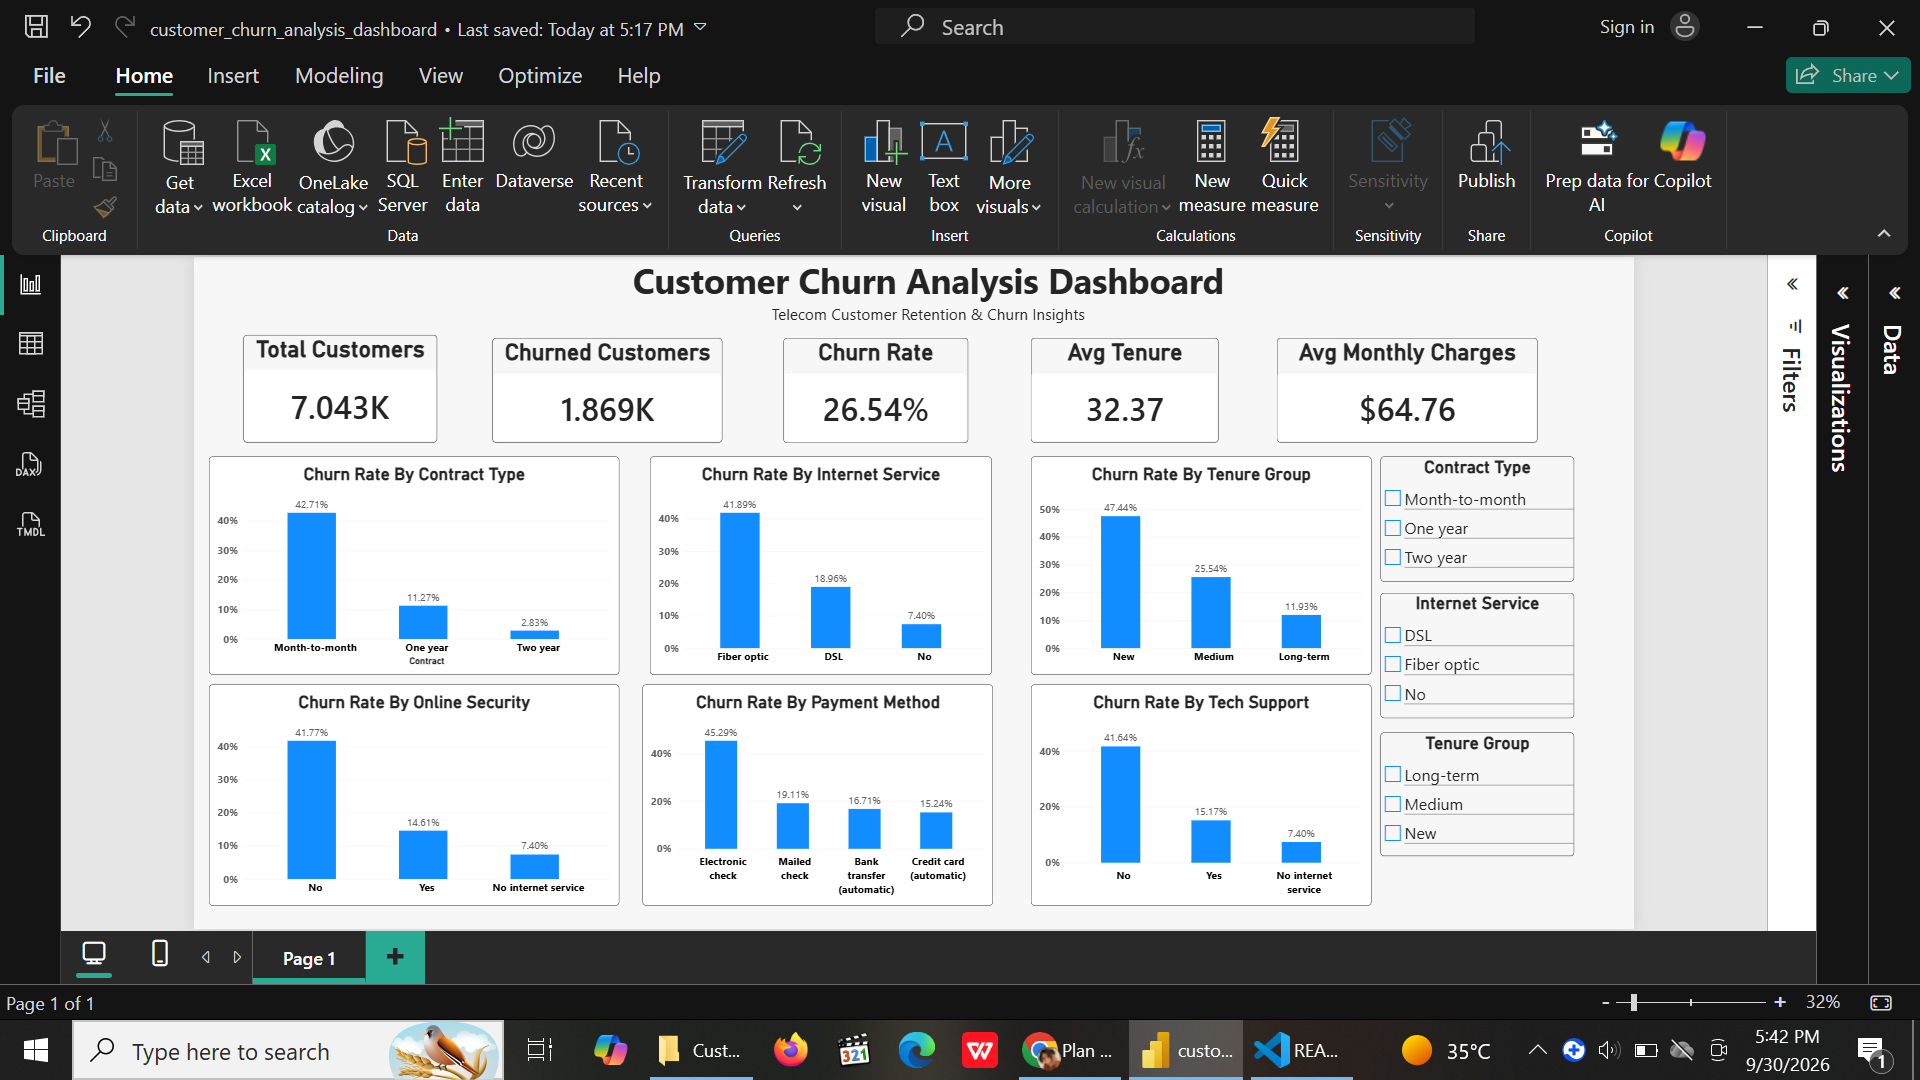

This screenshot's page, from the dashboard's own definition file:
{"tool":"powerbi","page":{"name":"Page 1","canvas":[3000,1400],"ordinal":0},"visuals":[{"type":"textbox","box":[433.3,0,2190.9,169.7],"z":0},{"type":"cardVisual","title":"Total Customers","fields":{"Data":["CountNonNull(telco telco_churn.customerID)"]},"box":[103.1,162.5,403,224.2],"z":1},{"type":"cardVisual","title":"Churned Customers","fields":{"Data":["CountNonNull(telco telco_churn.customerID)"]},"box":[621.9,168.8,478.8,218.2],"z":2},{"type":"cardVisual","title":"Churn Rate","fields":{"Data":["telco telco_churn.Churn Rate"]},"box":[1228.1,168.8,384.4,218.8],"z":3},{"type":"cardVisual","title":"Avg Monthly Charges","fields":{"Data":["telco telco_churn.Average Monthly Charges"]},"box":[2256.2,168.8,542.4,218.2],"z":4},{"type":"cardVisual","title":"Avg Tenure","fields":{"Data":["telco telco_churn.Average Tenure"]},"box":[1743.8,168.8,390.9,218.2],"z":5},{"type":"clusteredColumnChart","title":"Churn Rate By Contract Type","fields":{"Category":["telco telco_churn.Contract"],"Y":["telco telco_churn.Churn Rate"]},"box":[30.3,415.2,854.5,454.5],"z":6},{"type":"clusteredColumnChart","title":"Churn Rate By Internet Service","fields":{"Category":["telco telco_churn.InternetService"],"Y":["telco telco_churn.Churn Rate"]},"box":[951.5,415.2,712.1,454.5],"z":7},{"type":"clusteredColumnChart","title":"Churn Rate By Payment Method","fields":{"Category":["telco telco_churn.PaymentMethod"],"Y":["telco telco_churn.Churn Rate"]},"box":[933.3,890.9,730.3,460.6],"z":8},{"type":"clusteredColumnChart","title":"Churn Rate By Tenure Group","fields":{"Category":["telco telco_churn.Tenure Group"],"Y":["telco telco_churn.Churn Rate"]},"box":[1742.4,415.2,709.1,454.5],"z":9},{"type":"clusteredColumnChart","title":"Churn Rate By Online Security","fields":{"Category":["telco telco_churn.OnlineSecurity"],"Y":["telco telco_churn.Churn Rate"]},"box":[30.3,890.9,854.5,460.6],"z":10},{"type":"clusteredColumnChart","title":"Churn Rate By Tech Support","fields":{"Category":["telco telco_churn.TechSupport"],"Y":["telco telco_churn.Churn Rate"]},"box":[1742.4,890.9,709.1,460.6],"z":11},{"type":"slicer","title":"Contract Type","fields":{"Values":["telco telco_churn.Contract"]},"box":[2472.7,415.2,403,260.6],"z":12},{"type":"slicer","title":"Internet Service","fields":{"Values":["telco telco_churn.InternetService"]},"box":[2472.7,700,403,260.6],"z":13},{"type":"slicer","title":"Tenure Group","fields":{"Values":["telco telco_churn.Tenure Group"]},"box":[2472.7,990.9,403,257.6],"z":14}]}

Visuals, with their boxes on the page's 3000x1400 design canvas (x1, y1, x2, y2). These are canvas units, not pixel positions in the 1920x1080 screenshot, which may show the page scaled, cropped or inside an application window:
textbox: {"x1": 433, "y1": 0, "x2": 2624, "y2": 170}
"Total Customers" cardVisual: {"x1": 103, "y1": 162, "x2": 506, "y2": 387}
"Churned Customers" cardVisual: {"x1": 622, "y1": 169, "x2": 1101, "y2": 387}
"Churn Rate" cardVisual: {"x1": 1228, "y1": 169, "x2": 1612, "y2": 388}
"Avg Monthly Charges" cardVisual: {"x1": 2256, "y1": 169, "x2": 2799, "y2": 387}
"Avg Tenure" cardVisual: {"x1": 1744, "y1": 169, "x2": 2135, "y2": 387}
"Churn Rate By Contract Type" clusteredColumnChart: {"x1": 30, "y1": 415, "x2": 885, "y2": 870}
"Churn Rate By Internet Service" clusteredColumnChart: {"x1": 952, "y1": 415, "x2": 1664, "y2": 870}
"Churn Rate By Payment Method" clusteredColumnChart: {"x1": 933, "y1": 891, "x2": 1664, "y2": 1352}
"Churn Rate By Tenure Group" clusteredColumnChart: {"x1": 1742, "y1": 415, "x2": 2452, "y2": 870}
"Churn Rate By Online Security" clusteredColumnChart: {"x1": 30, "y1": 891, "x2": 885, "y2": 1352}
"Churn Rate By Tech Support" clusteredColumnChart: {"x1": 1742, "y1": 891, "x2": 2452, "y2": 1352}
"Contract Type" slicer: {"x1": 2473, "y1": 415, "x2": 2876, "y2": 676}
"Internet Service" slicer: {"x1": 2473, "y1": 700, "x2": 2876, "y2": 961}
"Tenure Group" slicer: {"x1": 2473, "y1": 991, "x2": 2876, "y2": 1248}
